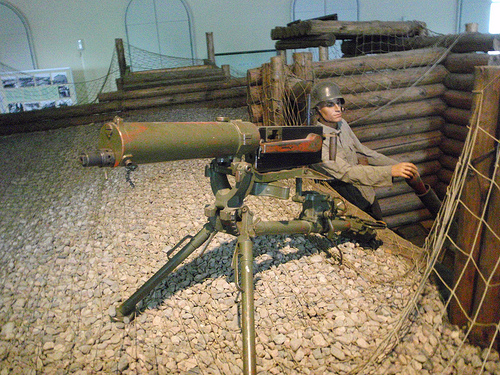rifle: (82, 73, 325, 351)
